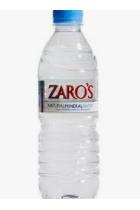plastic_bottle: (34, 8, 104, 200)
